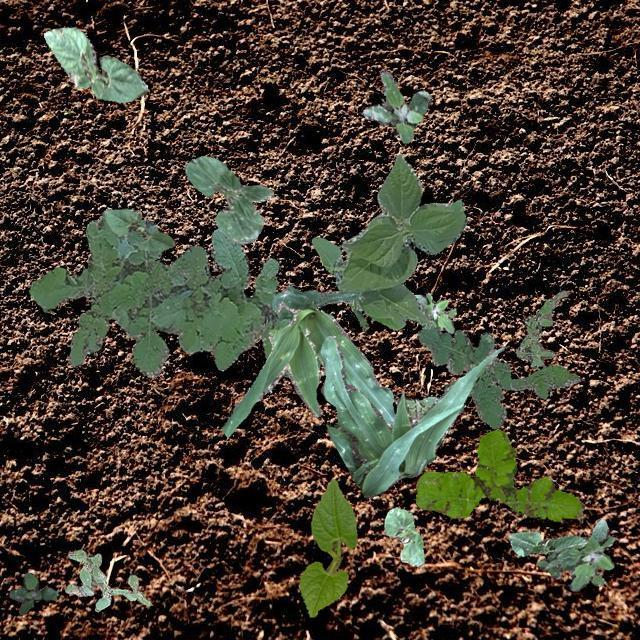crop: (319, 334, 503, 496), (310, 154, 466, 330), (222, 284, 394, 436), (298, 478, 356, 616), (42, 27, 146, 102), (185, 156, 272, 244), (102, 208, 174, 250), (384, 506, 424, 566), (508, 530, 588, 556)
weed: (28, 215, 320, 376), (416, 327, 580, 428), (414, 428, 584, 520), (536, 518, 614, 590), (64, 548, 150, 610), (362, 70, 429, 142), (514, 289, 568, 366), (8, 572, 56, 614), (414, 292, 454, 332), (404, 396, 436, 420)
